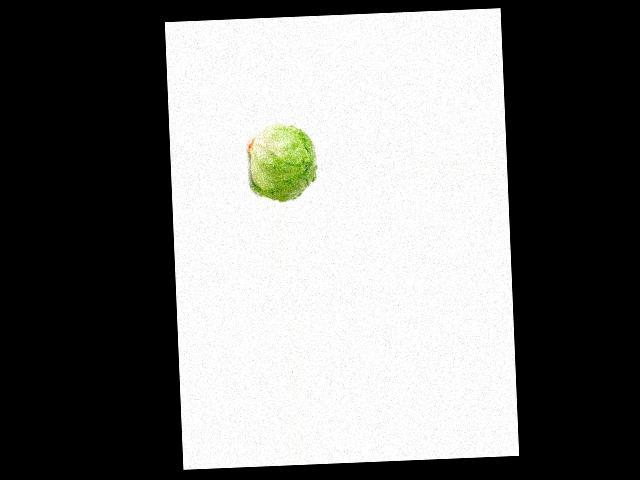lettuce: (249, 126, 318, 202)
